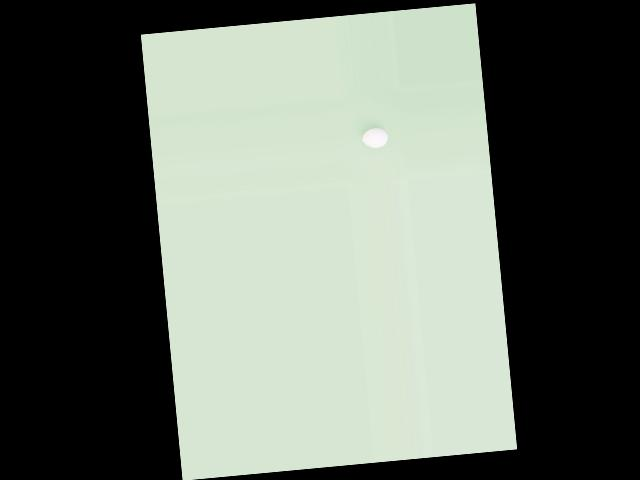egg: (361, 127, 389, 149)
